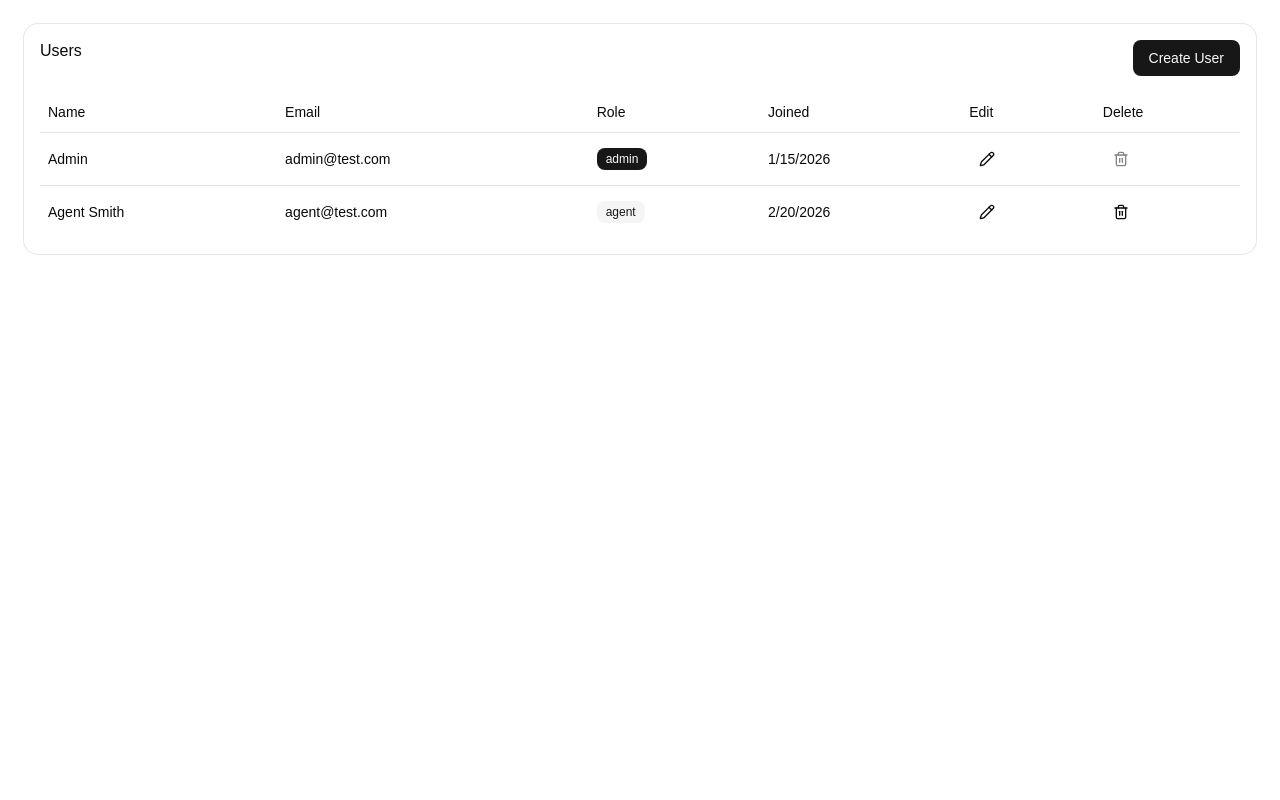
UsersPage › refreshes the list after editing a user
This screenshot has width=1280, height=800.
Expected: the row "Agent Smith agent@test.com agent 2/20/2026" is shown, [40,185,1240,238]
Click the button named "Edit Agent Smith" at (987, 212), box [969,194,1005,230]
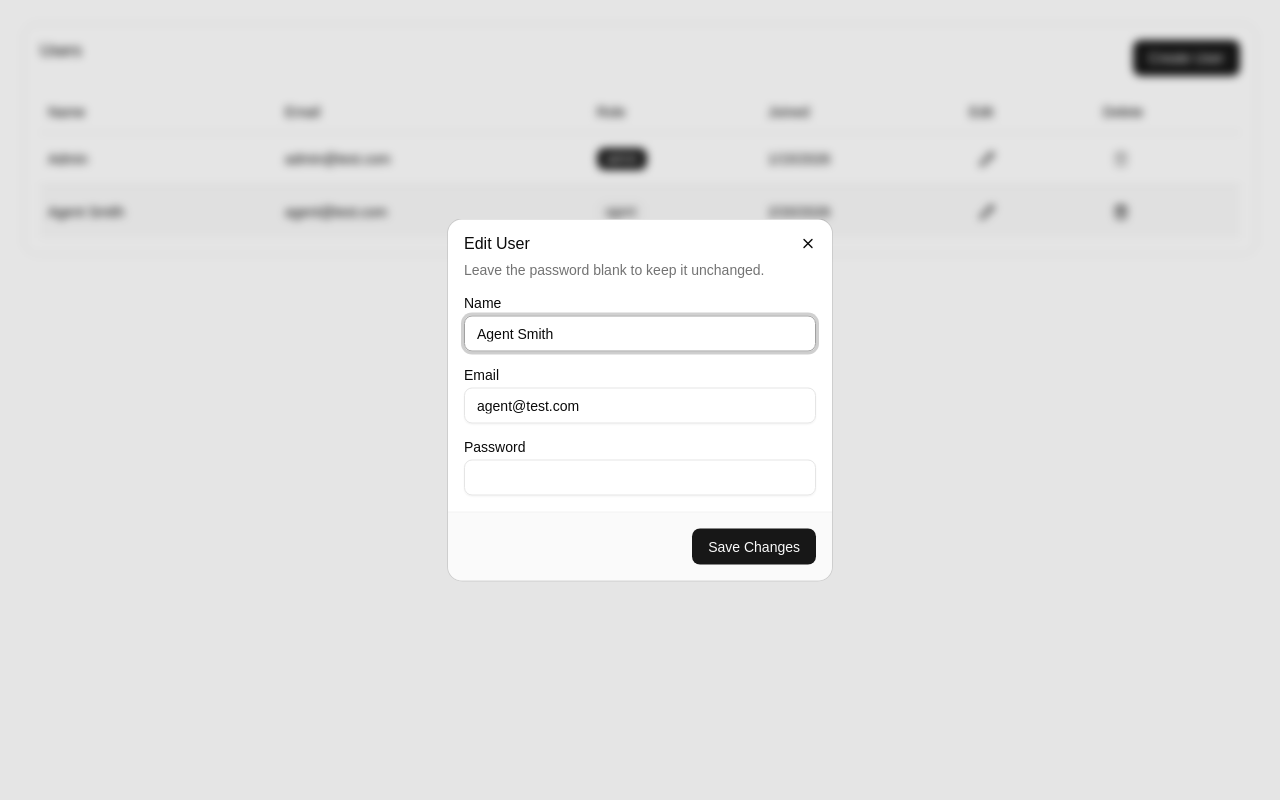
Replace the text in the field labelled "Name" with "Agent Jones" at (640, 334), box [464,316,816,352]
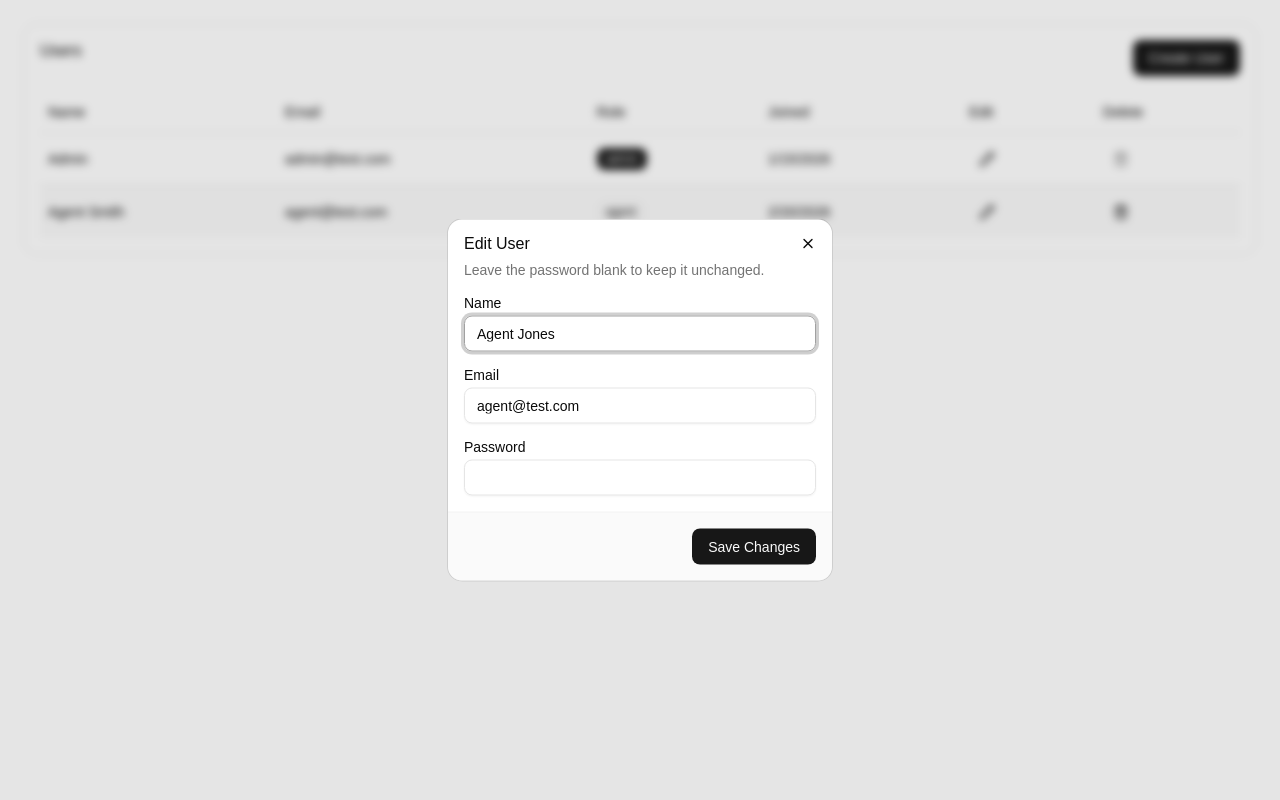
Click the button "Save Changes" at (754, 546), box [692,528,816,564]
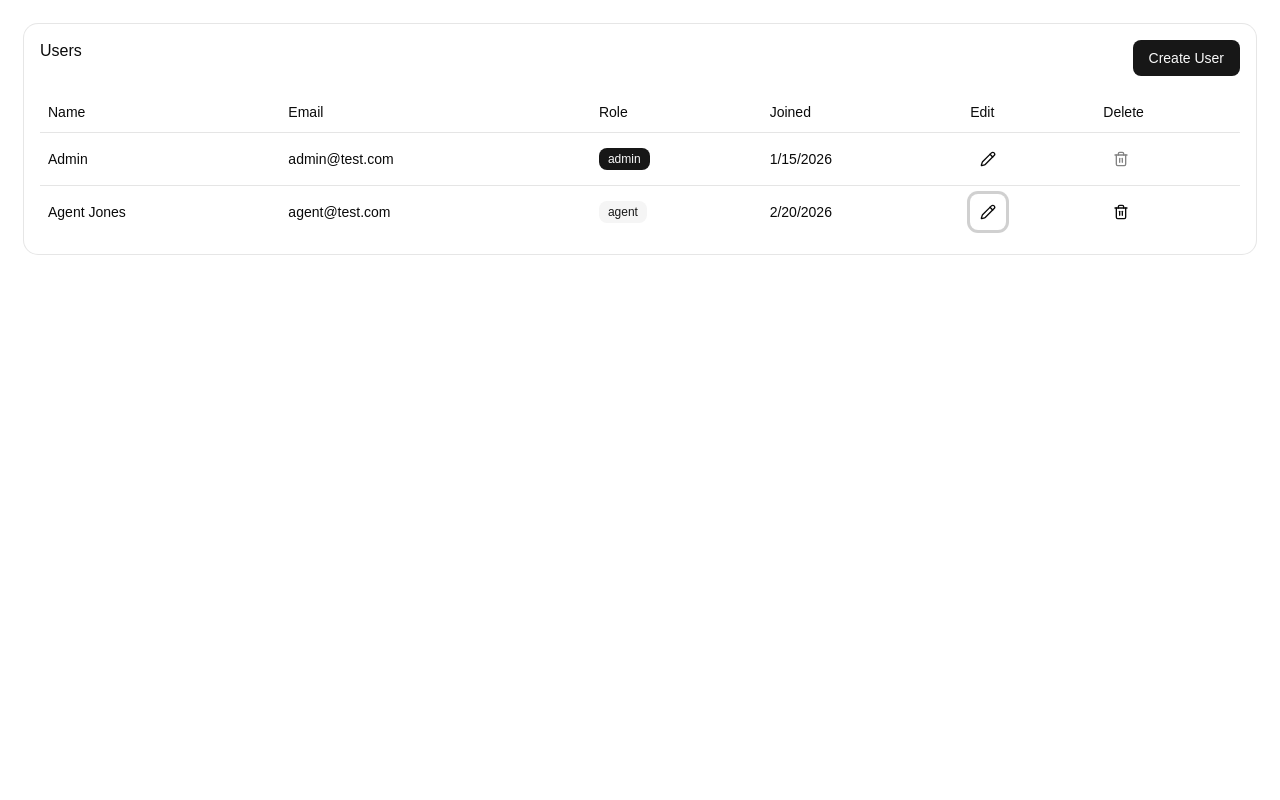
Result: the row "Agent Jones agent@test.com agent 2/20/2026" is shown at [40,185,1240,238]
